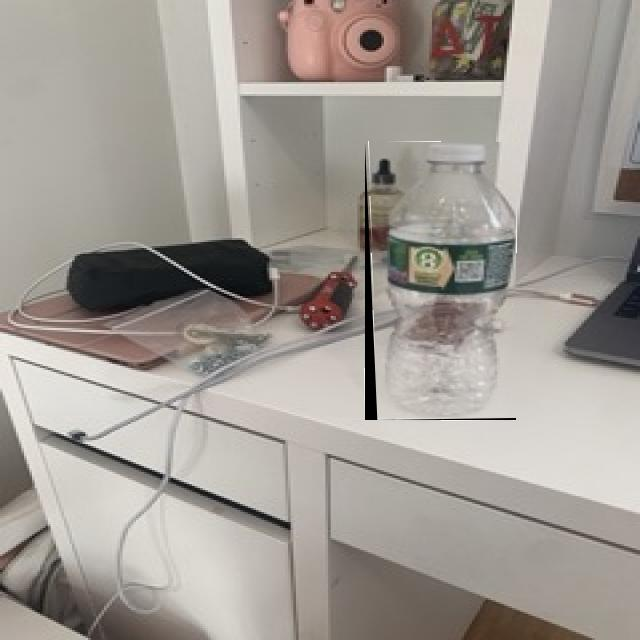water_bottle: (365, 142, 516, 420)
